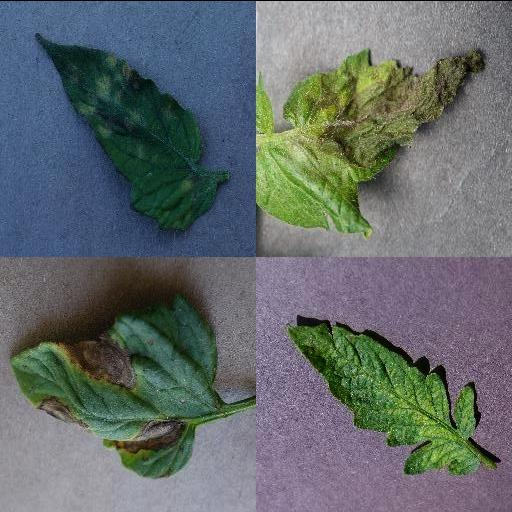Early Blight: (9, 294, 219, 478)
Late Blight: (256, 44, 486, 236)
Leaf Mold: (33, 33, 217, 227)
Mosaic Virus: (285, 319, 481, 473)
